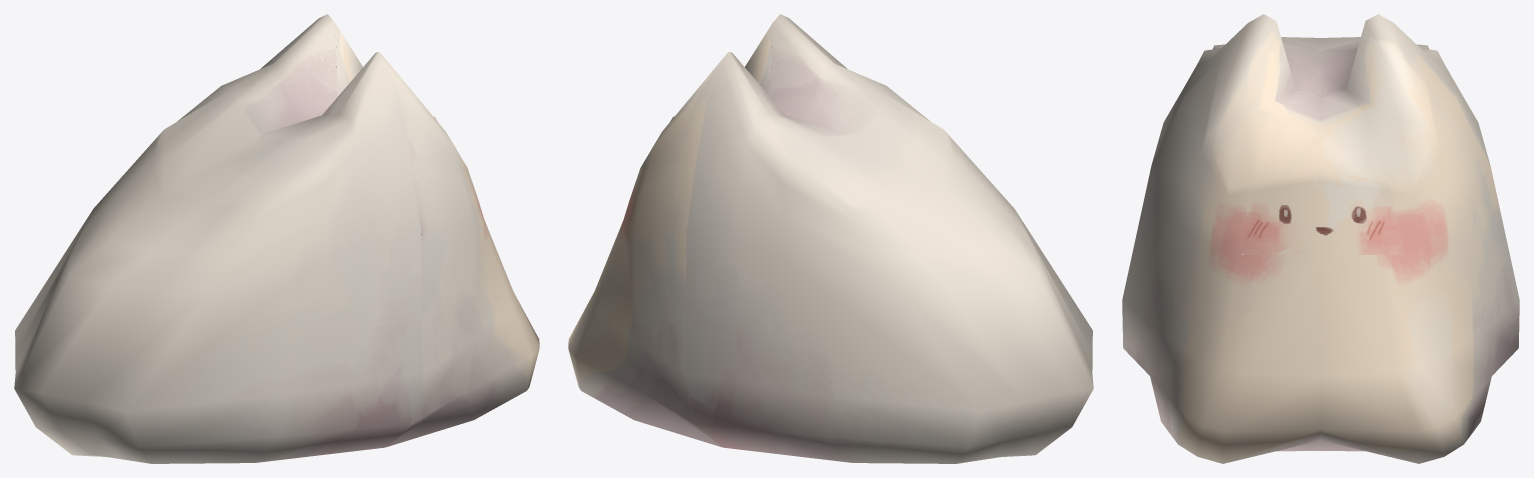
File: cat_pudding.fbx
The picture shows the model from 3 angles, left to right: view 1: azimuth 30°, elevation 25°; view 2: azimuth 150°, elevation 25°; view 3: azimuth 270°, elevation 25°; orthographic projection. The views are drawn at different scales.
Visible parts, largest first — view 1: cat_dessert; view 2: cat_dessert; view 3: cat_dessert.
Boxes of the visible parts, x1=… form: cat_dessert: x1=14, y1=14, x2=539, y2=463; cat_dessert: x1=568, y1=14, x2=1093, y2=463; cat_dessert: x1=1122, y1=14, x2=1519, y2=463.
Bounding box in the file's own units: 497 × 376 × 322.
Materials: 1 (1 with a texture image).
